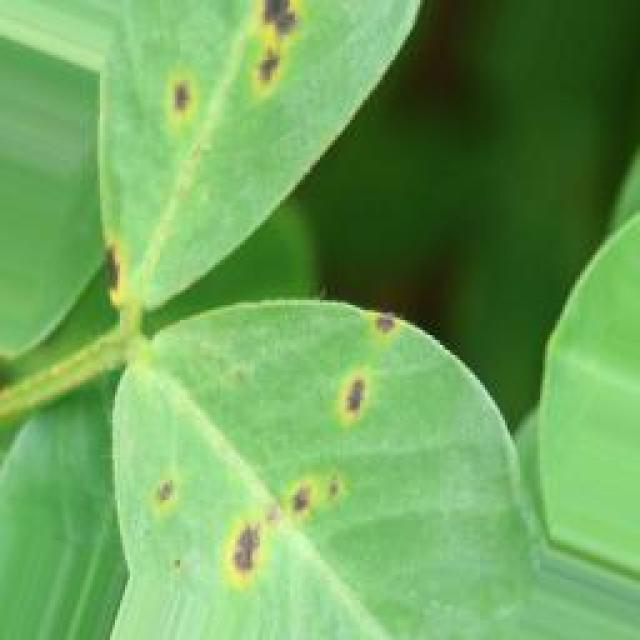Sigatoka: (223, 458, 365, 600), (308, 352, 392, 456), (228, 0, 318, 97), (125, 461, 216, 533), (148, 59, 216, 150), (357, 304, 416, 366)
